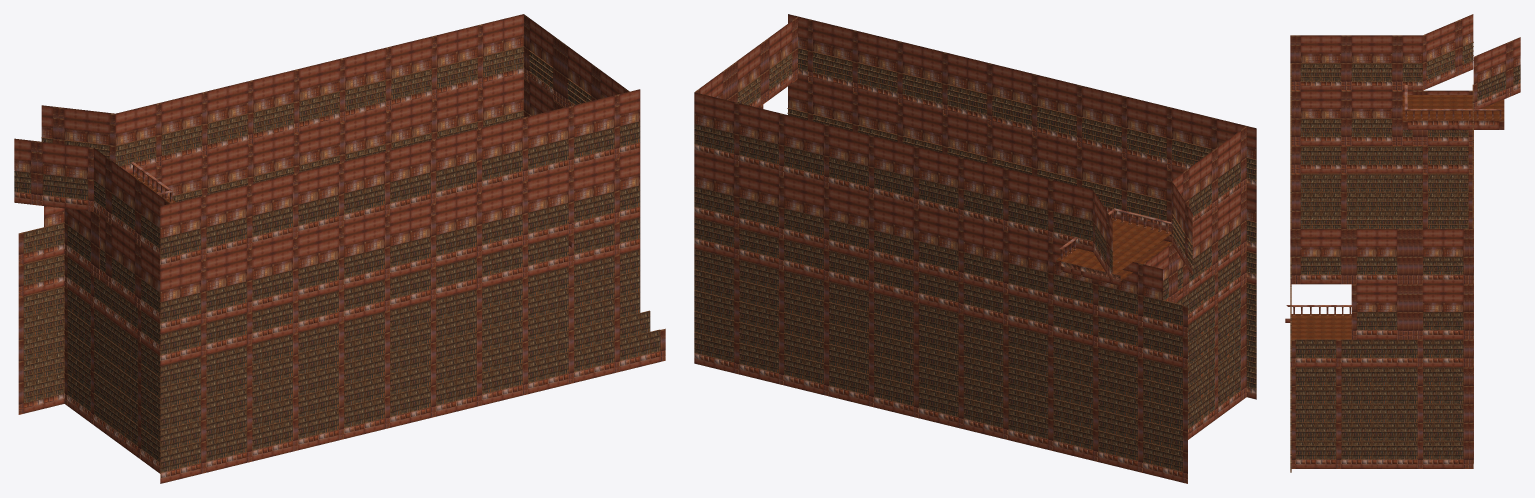
File: env_platform_room_02.FBX
3 views of the same model, side by side, from view 1: azimuth 30°, elevation 25°; view 2: azimuth 150°, elevation 25°; view 3: azimuth 270°, elevation 25° (orthographic). The views are drawn at different scales.
Parts seen in each view (by area): view 1: env_platform_room_02; view 2: env_platform_room_02; view 3: env_platform_room_02.
Part boxes in pixels (x1=…): env_platform_room_02: x1=14, y1=14, x2=665, y2=483; env_platform_room_02: x1=694, y1=14, x2=1256, y2=483; env_platform_room_02: x1=1285, y1=14, x2=1520, y2=472.
Size of the model in its own units: 2104 by 1024 by 909.
4 materials, 4 textured.
